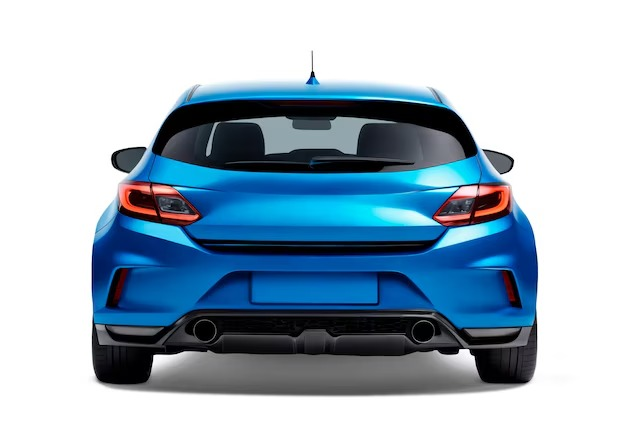car: (77, 96, 545, 387), (83, 93, 534, 374)
